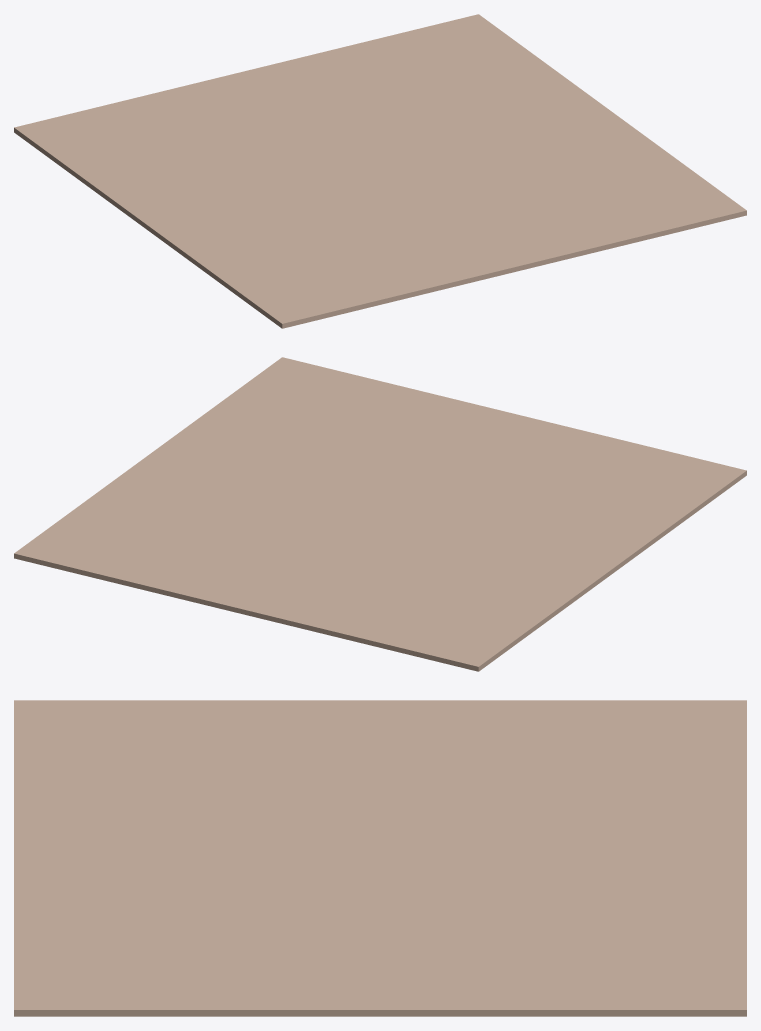
Rendered from TOWER_FLOOR0_colliders_001.fbx.
3 renders of one model, top to bottom at view 1: azimuth 30°, elevation 25°; view 2: azimuth 150°, elevation 25°; view 3: azimuth 270°, elevation 25°, orthographic. The views are drawn at different scales.
Visible parts, largest first — view 1: TOWER_FLOOR0_colliders.001; view 2: TOWER_FLOOR0_colliders.001; view 3: TOWER_FLOOR0_colliders.001.
Part boxes in pixels (<box>): TOWER_FLOOR0_colliders.001: <box>14,14,746,328</box>; TOWER_FLOOR0_colliders.001: <box>14,357,746,671</box>; TOWER_FLOOR0_colliders.001: <box>14,700,746,1016</box>.
Bounding box in the file's own units: 417 × 4.21 × 417.
